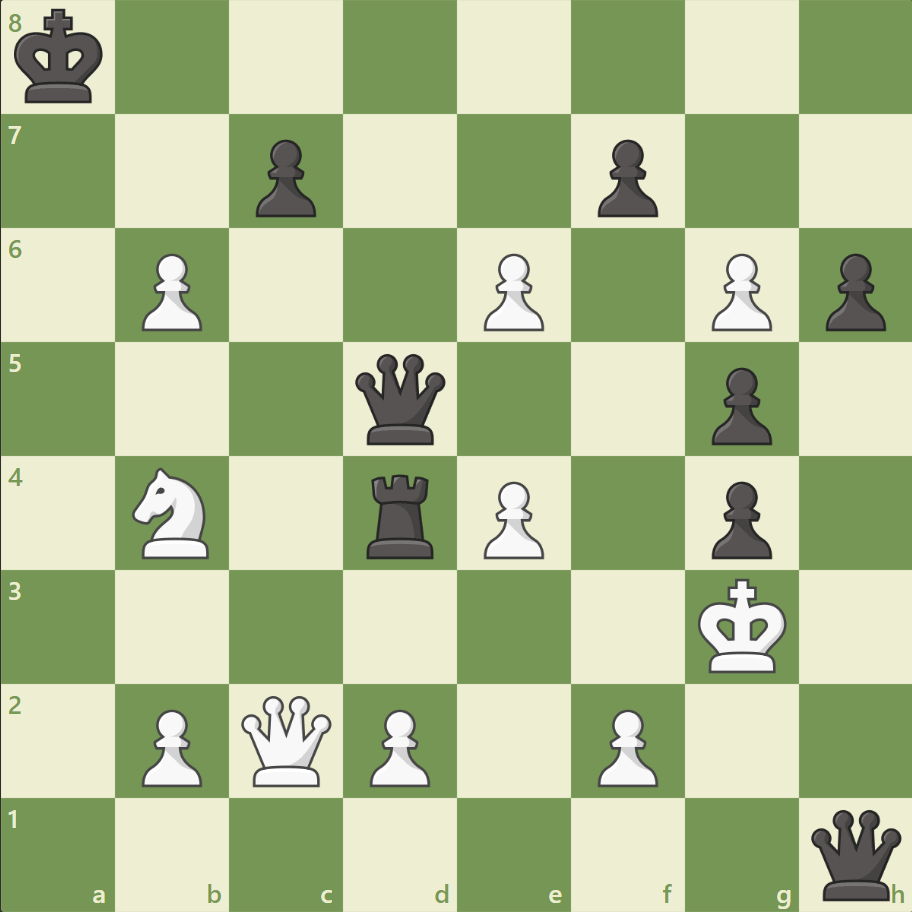K: (692, 571, 792, 679)
N: (124, 461, 222, 564)
P: (133, 246, 208, 337), (474, 246, 549, 337), (701, 246, 776, 337), (474, 473, 549, 564), (133, 700, 208, 791), (361, 700, 435, 791), (588, 700, 662, 791)
Q: (237, 690, 336, 789)
k: (11, 4, 111, 112)
p: (247, 132, 322, 223), (701, 359, 776, 450), (701, 473, 776, 564), (588, 132, 662, 223), (815, 246, 889, 337)
q: (351, 349, 450, 449), (805, 804, 904, 903)
r: (360, 466, 442, 563)
